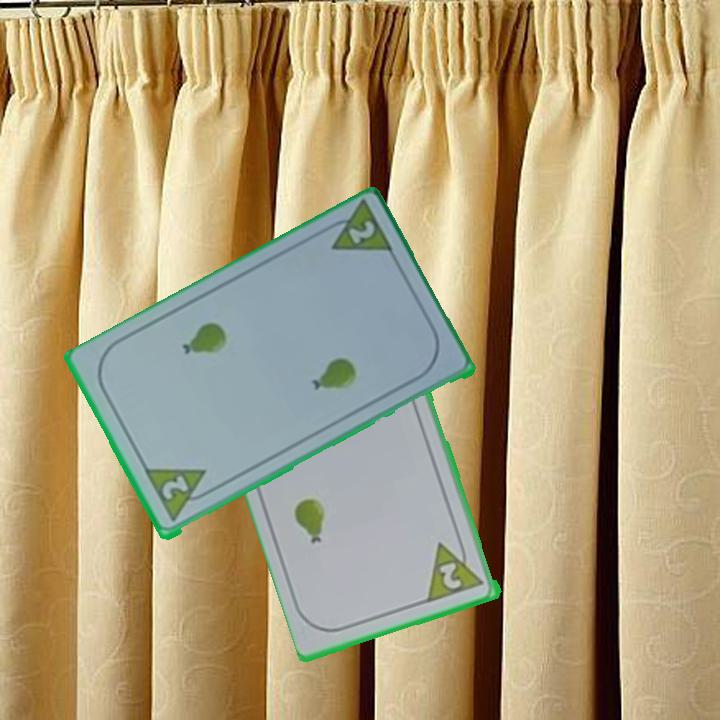2p: (141, 465, 218, 526), (344, 217, 378, 248), (436, 559, 466, 593)
